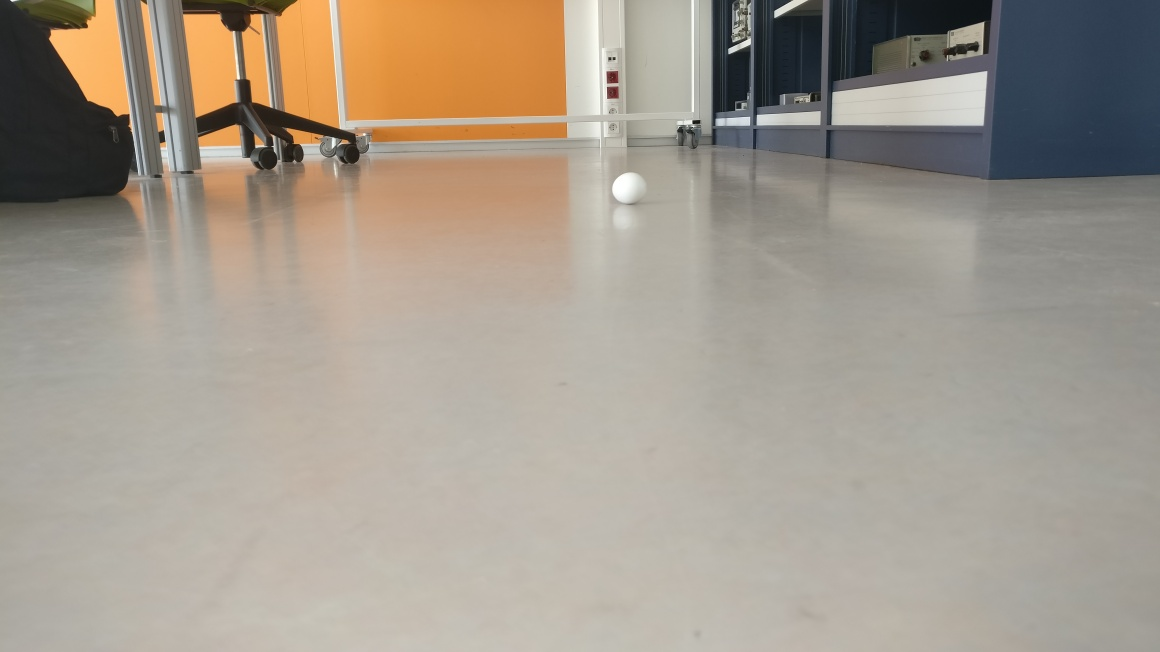egg: (610, 171, 647, 204)
